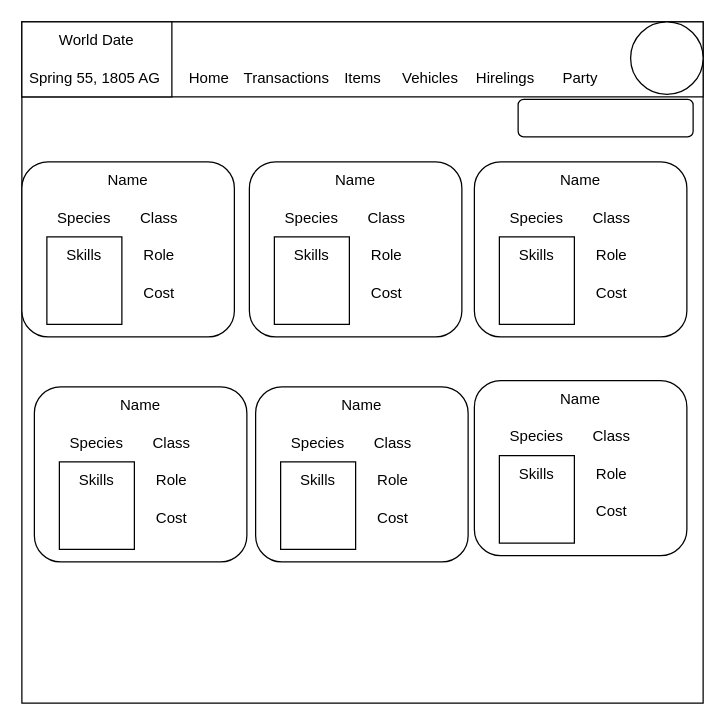
The diagram is 725 pixels wide and 725 high, and some of its shapes have lost their labels. Here are the shapes that lost their labels. From the top down, the centre of each, then its label:
pixel 666 57: User
pixel 605 117: Hire Someone
